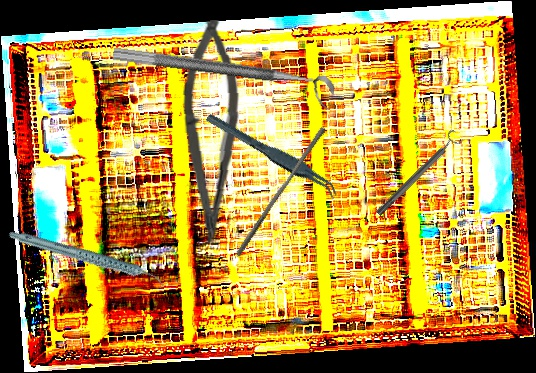Fixation Ring: (109, 45, 337, 111), (371, 128, 465, 220)
Handpiece: (7, 201, 166, 317)
Micro Scissor: (177, 19, 248, 245)
Pusher: (234, 123, 327, 261)
Tissue Forceps: (204, 98, 342, 212)
